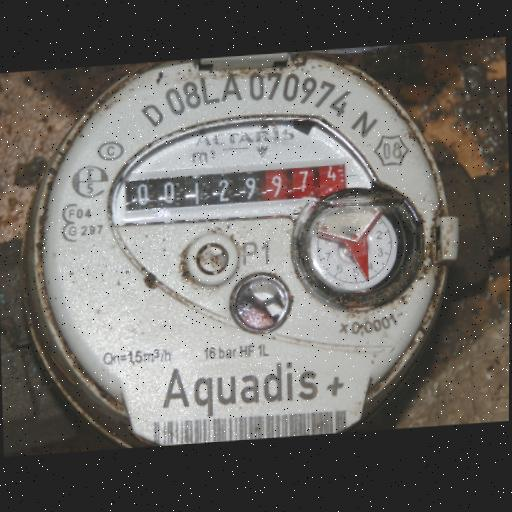0: (124, 178, 157, 211), (155, 177, 186, 209)
1: (185, 174, 212, 207)
2: (211, 172, 240, 205)
4: (316, 164, 347, 197)
7: (289, 166, 318, 198)
9: (263, 168, 292, 201), (238, 171, 265, 203)
border_water_meter_number: (109, 155, 372, 232)
